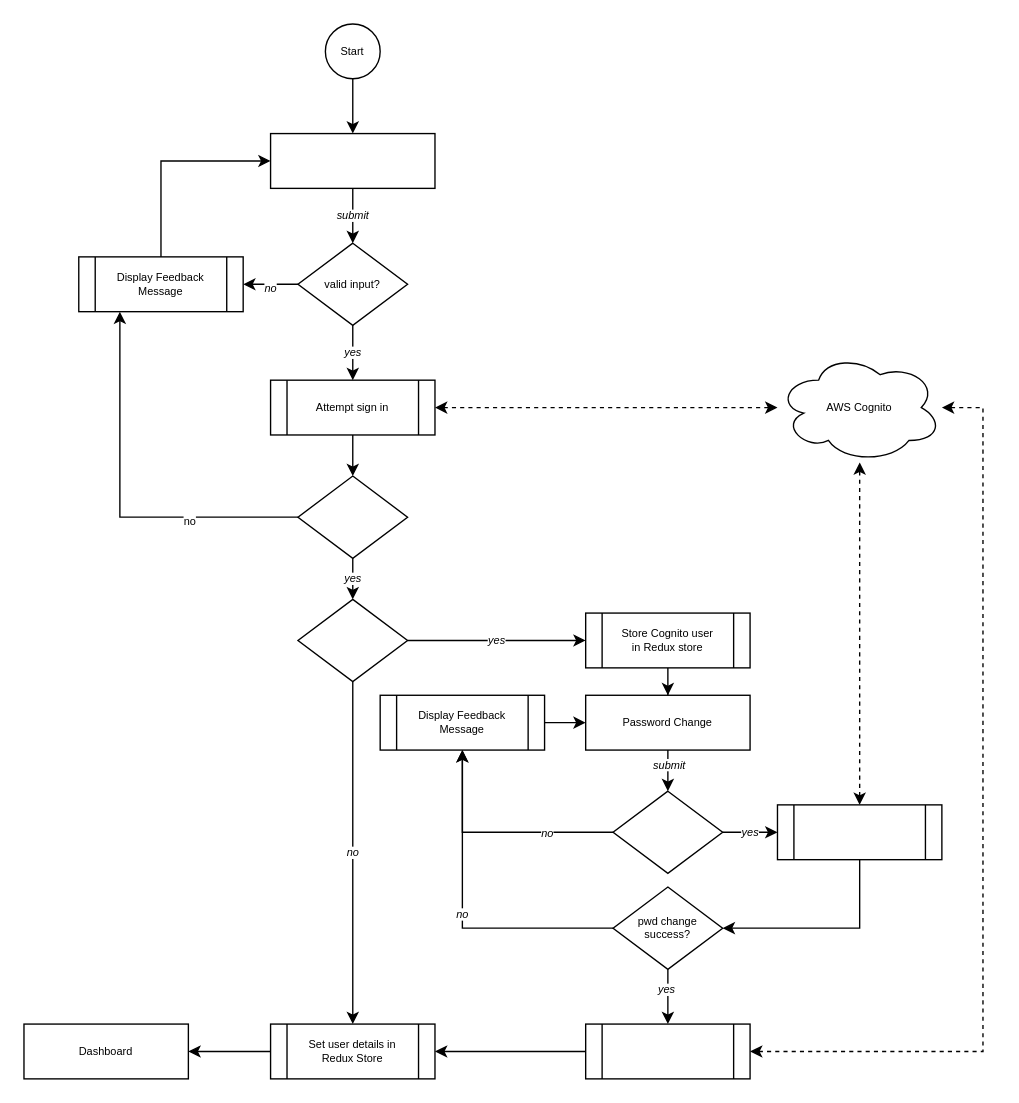
Image size: 1019x1103. Some labels were removed from this diagram. The shapes that lost their labels are listed below. From the top down, each one's box as (x1, y1, x2, y2) in pixels, then its label:
(269, 132, 435, 188): Sign In Page
(297, 475, 408, 558): is valid sign in?
(297, 598, 408, 682): force pwd change?
(612, 790, 723, 873): is valid password?
(776, 804, 942, 860): Update user password
(584, 1023, 750, 1079): Get current Amplify User
